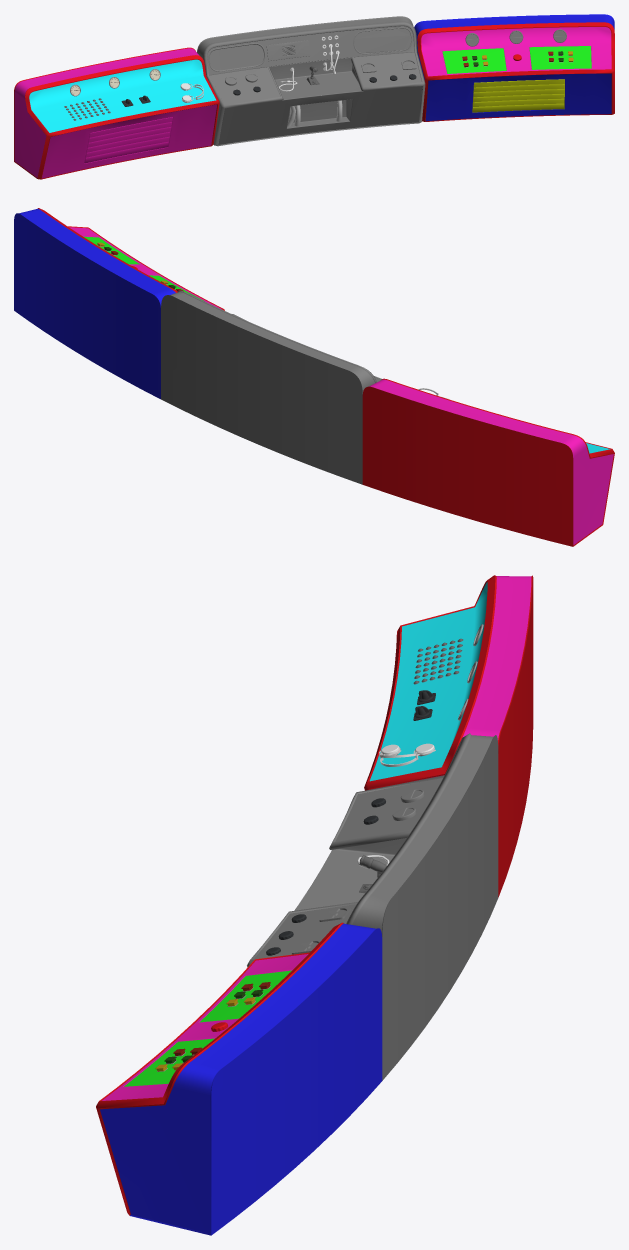
The model's file is ControlPanelCTRL3.fbx.
The picture shows the model from 3 angles, top to bottom: view 1: azimuth 30°, elevation 25°; view 2: azimuth 150°, elevation 25°; view 3: azimuth 270°, elevation 25°; orthographic projection. The views are drawn at different scales.
Parts seen in each view (by area): view 1: Table008, Table003, Table006, Object006, Object016, Object009, Object014, Object007, Object015, Cylinder003; view 2: Table008, Table006, Table003, Object006; view 3: Table003, Table006, Table008, Object006.
Part boxes in pixels (x1,y1,x2,y2): Table008: (14,47,219,179); Table003: (414,14,614,121); Table006: (197,16,422,144); Object006: (203,21,425,146); Object016: (207,26,414,75); Object009: (354,28,411,53); Object014: (209,44,263,70); Object007: (266,40,310,61); Object015: (208,27,412,71); Cylinder003: (287,100,342,126); Table008: (362,378,614,546); Table006: (161,292,380,484); Table003: (14,208,224,399); Object006: (178,290,381,382); Table003: (96,922,382,1235); Table006: (253,735,498,1080); Table008: (364,575,533,897); Object006: (247,733,471,967).
Bounding box in the file's own units: 1053 × 166 × 383.
